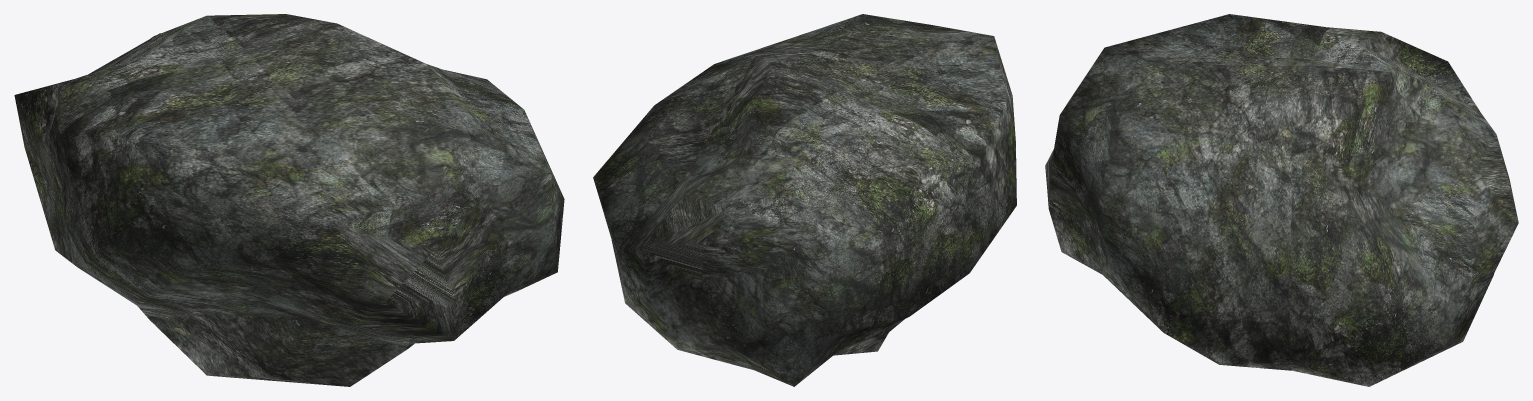
File: Rock_1.fbx
The picture shows the model from 3 angles, left to right: view 1: azimuth 30°, elevation 25°; view 2: azimuth 150°, elevation 25°; view 3: azimuth 270°, elevation 25°; orthographic projection. The views are drawn at different scales.
Parts seen in each view (by area): view 1: Rock_1; view 2: Rock_1; view 3: Rock_1.
Boxes of the visible parts, left/top/right/bottom form: Rock_1: left=14, top=14, right=564, bottom=386; Rock_1: left=593, top=14, right=1016, bottom=386; Rock_1: left=1045, top=14, right=1518, bottom=386.
Bounding box in the file's own units: 132 × 92.53 × 148.
